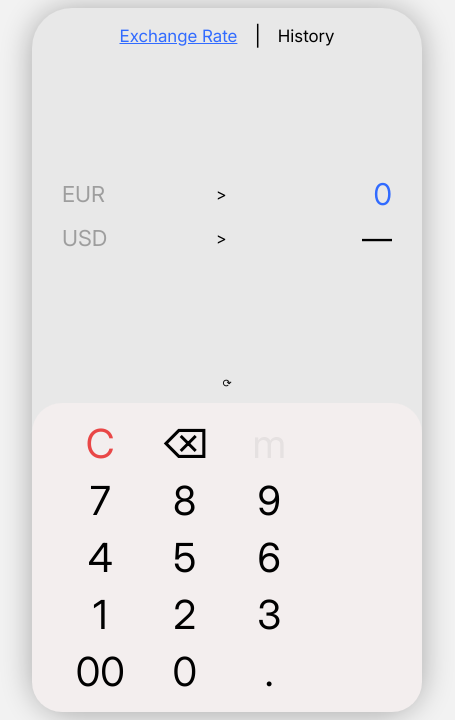
exchange requests › deletes exactly one selected conversion per backspace press and keeps the list rendered
The image size is (455, 720).
Click the button with test id "tab-history": (306, 36) [272,25,340,47]
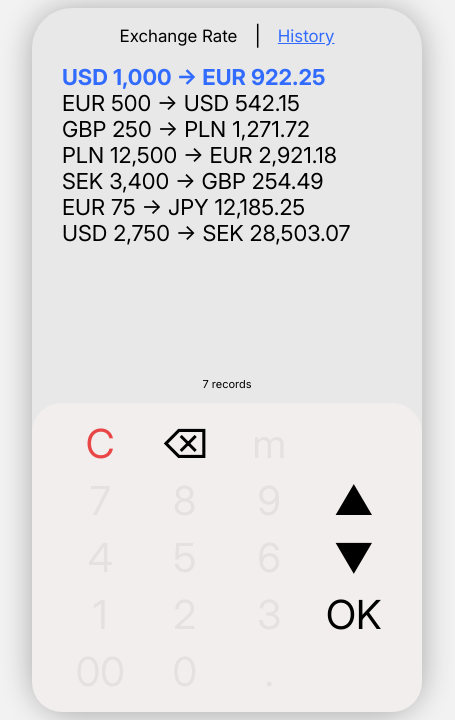
Click the button with test id "key-down": (354, 558) [316,533,392,582]
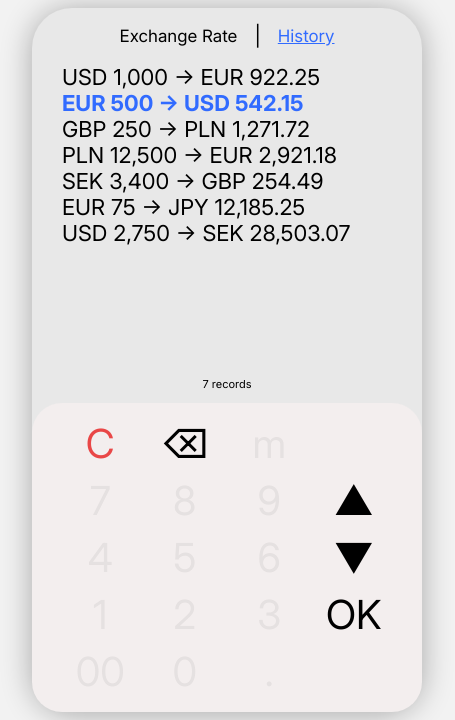
Click the button with test id "key-backspace": (185, 444) [146,419,223,468]
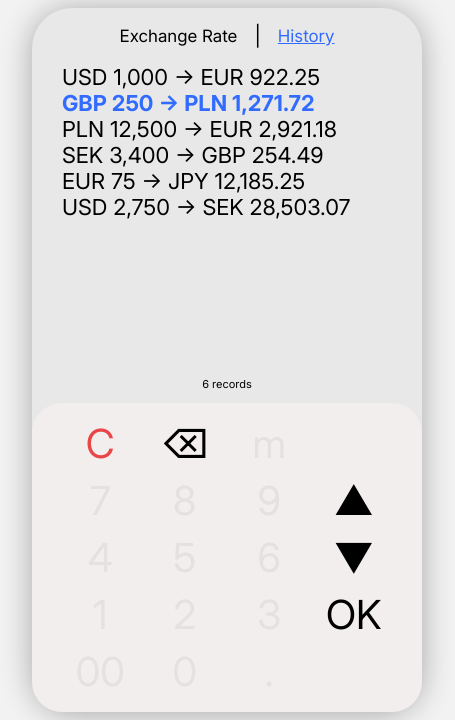
Check: the text with test id "history-count" reads "6 records", box [202,377,252,391]
Check: the number of options with test id "history-item" is 6, box [62,64,320,90]; [62,90,315,116]; [62,116,337,142]; [62,142,324,168]; [62,168,305,194]; [62,194,392,220]
Click the button with test id "key-backspace": (185, 444) [146,419,223,468]
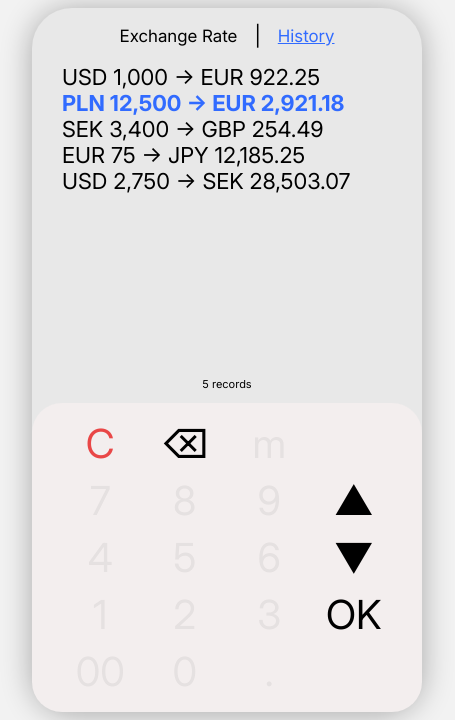
Check: the text with test id "history-count" reads "5 records", box [202,377,252,391]
Check: the number of options with test id "history-item" is 5, box [62,64,320,90]; [62,90,392,116]; [62,116,324,142]; [62,142,305,168]; [62,168,392,194]
